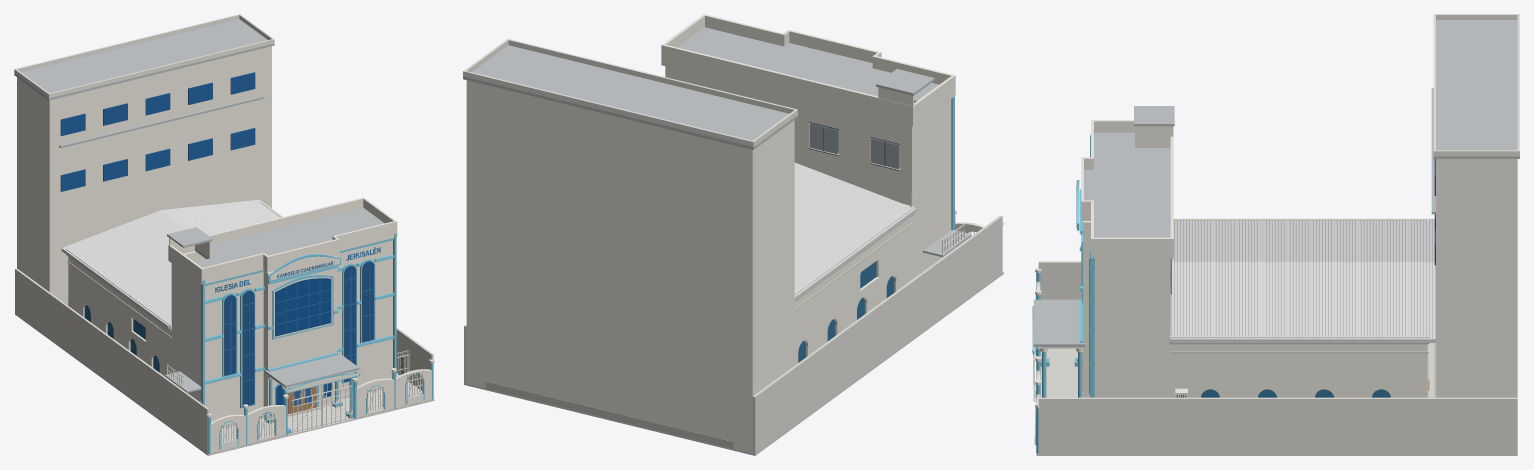
The model's file is iglesia-jerusalen-intro.glb.
The picture shows the model from 3 angles, left to right: view 1: azimuth 30°, elevation 25°; view 2: azimuth 150°, elevation 25°; view 3: azimuth 270°, elevation 25°; orthographic projection. The views are drawn at different scales.
Parts seen in each view (by area): view 1: BLOQUE 3 | muro posterior continuo | aulas, BLOQUE 2 | lámina metálica corrugada, ID19: Geometría base importada · nave principal · lado izqui, BLOQUES 1–2 | muro lateral izquierdo continuo, ID1861: Geometría base importada · Bloque 3 y fondo · zona c, ID3302: Geometría base importada · Bloque 3 y fondo · lado i, ID5820: Geometría base importada · Bloque 1 y terraza · zona, BLOQUE 1 | ala izquierda | muro continuo con dos vanos, BLOQUE 1 | ala derecha | muro continuo con dos vanos, ID521: Geometría base importada · frente · zona central · pa, ID5778: Bloque 1 · terraza y acceso a escalera · acabado gri, ID1143: Geometría base importada · frente · zona central · p (+40 smaller); view 2: ID3316: Geometría base importada · Bloque 3 y fondo · zona c, ID19: Geometría base importada · nave principal · lado izqui, BLOQUES 1–2 | muro lateral izquierdo continuo, ID1861: Geometría base importada · Bloque 3 y fondo · zona c, ID3302: Geometría base importada · Bloque 3 y fondo · lado i, ID5820: Geometría base importada · Bloque 1 y terraza · zona, BLOQUE 2 | lámina metálica corrugada, BLOQUE 1 | muro posterior continuo | salón infantil, ID5771: Bloque 1 · terraza y acceso a escalera · acabado gri, ID1875: Geometría base importada · Bloque 3 y fondo · zona c, ID1868: Geometría base importada · Bloque 3 y fondo · zona c, Bloque 3 · piso elevado de planta baja (+9 smaller); view 3: BLOQUE 2 | lámina metálica corrugada, ID30: Geometría base importada · nave principal · lado derec, BLOQUES 1–2 | muro lateral derecho continuo, ID3309: Geometría base importada · Bloque 3 y fondo · lado d, ID1861: Geometría base importada · Bloque 3 y fondo · zona c, ID5771: Bloque 1 · terraza y acceso a escalera · acabado gri, ID5778: Bloque 1 · terraza y acceso a escalera · acabado gri, ID5820: Geometría base importada · Bloque 1 y terraza · zona, ID1699: Acceso frontal · cubierta, grada o remate · parte 53, ID19: Geometría base importada · nave principal · lado izqui, ID1143: Geometría base importada · frente · zona central · p, ID8: Geometría base importada · nave principal · zona centra (+12 smaller).
Part boxes in pixels (<box>): BLOQUE 3 | muro posterior continuo | aulas: <box>48,47,269,305</box>; BLOQUE 2 | lámina metálica corrugada: <box>62,199,282,325</box>; ID19: Geometría base importada · nave principal · lado izqui: <box>15,268,209,453</box>; BLOQUES 1–2 | muro lateral izquierdo continuo: <box>68,256,200,402</box>; ID1861: Geometría base importada · Bloque 3 y fondo · zona c: <box>14,19,274,100</box>; ID3302: Geometría base importada · Bloque 3 y fondo · lado i: <box>17,77,51,293</box>; ID5820: Geometría base importada · Bloque 1 y terraza · zona: <box>168,199,397,284</box>; BLOQUE 1 | ala izquierda | muro continuo con dos vanos: <box>205,272,263,428</box>; BLOQUE 1 | ala derecha | muro continuo con dos vanos: <box>336,240,391,399</box>; ID521: Geometría base importada · frente · zona central · pa: <box>275,279,330,335</box>; ID5778: Bloque 1 · terraza y acceso a escalera · acabado gri: <box>195,207,376,258</box>; ID1143: Geometría base importada · frente · zona central · p: <box>220,383,421,447</box>; ID3316: Geometría base importada · Bloque 3 y fondo · zona c: <box>466,80,754,452</box>; ID19: Geometría base importada · nave principal · lado izqui: <box>752,215,1002,453</box>; BLOQUES 1–2 | muro lateral izquierdo continuo: <box>794,99,951,365</box>; ID1861: Geometría base importada · Bloque 3 y fondo · zona c: <box>463,45,797,149</box>; ID3302: Geometría base importada · Bloque 3 y fondo · lado i: <box>749,121,793,452</box>; ID5820: Geometría base importada · Bloque 1 y terraza · zona: <box>661,16,955,126</box>; BLOQUE 2 | lámina metálica corrugada: <box>794,162,915,296</box>; BLOQUE 1 | muro posterior continuo | salón infantil: <box>665,66,912,192</box>; ID5771: Bloque 1 · terraza y acceso a escalera · acabado gri: <box>683,27,939,102</box>; ID1875: Geometría base importada · Bloque 3 y fondo · zona c: <box>463,70,754,147</box>; ID1868: Geometría base importada · Bloque 3 y fondo · zona c: <box>507,39,797,115</box>; Bloque 3 · piso elevado de planta baja: <box>485,381,733,448</box>; BLOQUE 2 | lámina metálica corrugada: <box>1170,218,1435,339</box>; ID30: Geometría base importada · nave principal · lado derec: <box>1038,397,1517,454</box>; BLOQUES 1–2 | muro lateral derecho continuo: <box>1095,258,1427,397</box>; ID3309: Geometría base importada · Bloque 3 y fondo · lado d: <box>1436,159,1517,397</box>; ID1861: Geometría base importada · Bloque 3 y fondo · zona c: <box>1433,20,1519,158</box>; ID5771: Bloque 1 · terraza y acceso a escalera · acabado gri: <box>1091,132,1137,237</box>; ID5778: Bloque 1 · terraza y acceso a escalera · acabado gri: <box>1137,148,1170,237</box>; ID5820: Geometría base importada · Bloque 1 y terraza · zona: <box>1081,122,1173,258</box>; ID1699: Acceso frontal · cubierta, grada o remate · parte 53: <box>1033,299,1085,346</box>; ID19: Geometría base importada · nave principal · lado izqui: <box>1038,261,1081,299</box>; ID1143: Geometría base importada · frente · zona central · p: <box>1040,348,1082,397</box>; ID8: Geometría base importada · nave principal · zona centra: <box>1036,343,1517,455</box>.
Size of the model in its own units: 20.08 by 20.64 by 29.97.
